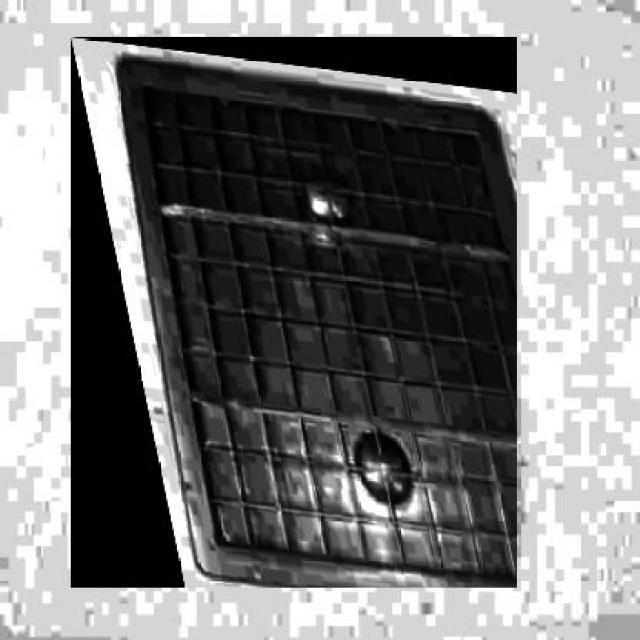Manhole: (71, 36, 517, 589)
